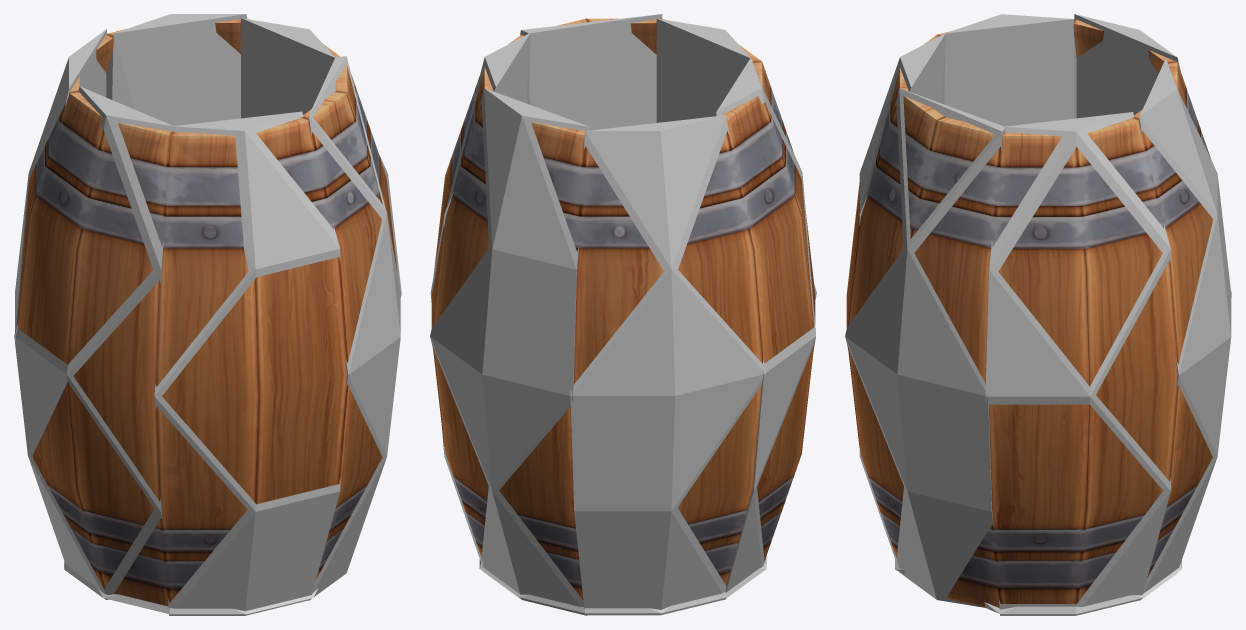
File: SM_BarrelWooden01_4.fbx
The picture shows the model from 3 angles, left to right: view 1: azimuth 30°, elevation 25°; view 2: azimuth 150°, elevation 25°; view 3: azimuth 270°, elevation 25°; orthographic projection.
Parts seen in each view (by area): view 1: SM_BarrelWooden01_4, SM_BarrelWooden01_4_ConvexHulls; view 2: SM_BarrelWooden01_4_ConvexHulls, SM_BarrelWooden01_4; view 3: SM_BarrelWooden01_4, SM_BarrelWooden01_4_ConvexHulls.
Part boxes in pixels (x1=…): SM_BarrelWooden01_4: x1=17, y1=18, x2=397, y2=606; SM_BarrelWooden01_4_ConvexHulls: x1=14, y1=14, x2=401, y2=615; SM_BarrelWooden01_4_ConvexHulls: x1=430, y1=14, x2=816, y2=615; SM_BarrelWooden01_4: x1=431, y1=18, x2=815, y2=600; SM_BarrelWooden01_4: x1=846, y1=19, x2=1213, y2=607; SM_BarrelWooden01_4_ConvexHulls: x1=845, y1=14, x2=1231, y2=615.
Bounding box in the file's own units: 73.09 × 73.12 × 101.
Materials: 2 (1 with a texture image).
